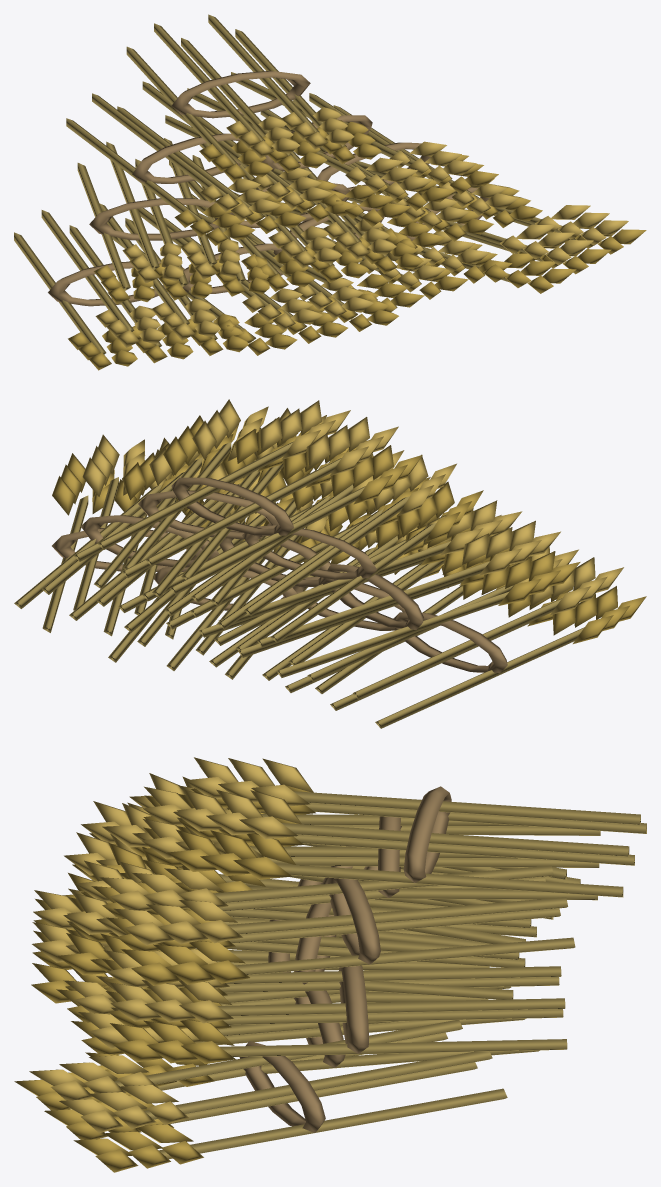
Rendered from pile-rice-10.gltf.
The picture shows the model from 3 angles, top to bottom: view 1: azimuth 30°, elevation 25°; view 2: azimuth 150°, elevation 25°; view 3: azimuth 270°, elevation 25°; orthographic projection. The views are drawn at different scales.
Visible parts, largest first — view 1: pile-rice-10; view 2: pile-rice-10; view 3: pile-rice-10.
Part boxes in pixels (<box>): pile-rice-10: <box>14,14,646,370</box>; pile-rice-10: <box>14,399,646,728</box>; pile-rice-10: <box>14,757,646,1172</box>.
Size of the model in its own units: 0.7921 by 0.2302 by 0.6108.
